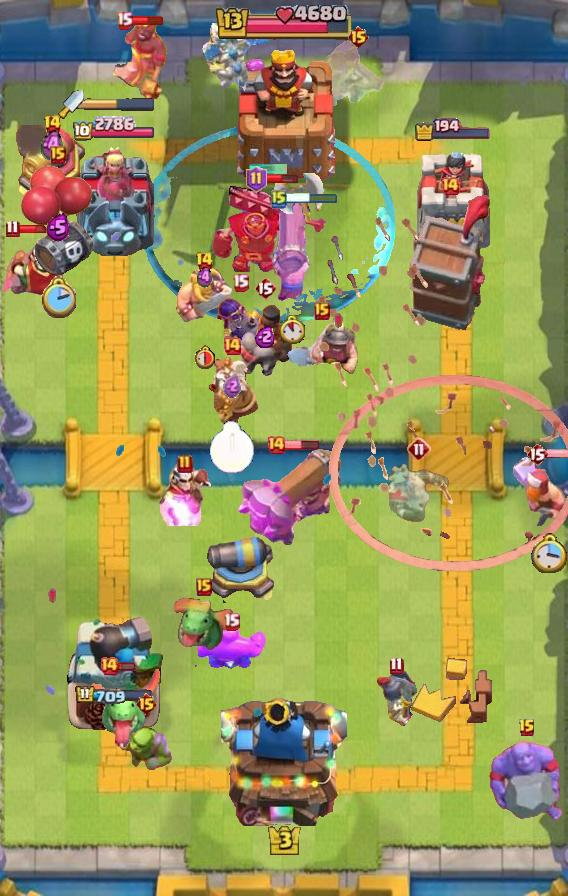archer-queen: (486, 738, 568, 826)
bandit: (286, 316, 358, 382)
bar: (70, 142, 158, 256)
barbarian-hut: (321, 38, 395, 106)
battle-healer: (269, 198, 315, 302)
clock: (213, 5, 355, 43)
dart-goblin: (408, 193, 492, 331)
electro-spirit: (41, 129, 63, 163), (46, 213, 70, 242), (256, 324, 277, 348), (223, 374, 241, 398), (197, 266, 211, 290)
electro-wizard: (79, 669, 163, 747), (170, 595, 238, 653)
elite-barbarian: (236, 302, 294, 378)
elixir: (209, 421, 255, 475), (40, 276, 76, 318), (532, 533, 568, 573), (279, 316, 305, 345), (193, 345, 215, 369)
elixir-collector: (204, 356, 260, 430)
emote: (286, 191, 339, 204), (264, 173, 300, 185), (284, 439, 320, 451), (130, 14, 164, 25), (17, 224, 49, 234), (546, 448, 568, 459), (116, 661, 136, 672)
flying-machine: (116, 718, 176, 774)
freeze: (108, 18, 168, 104)
furnace: (236, 446, 344, 546)
goblin-ball: (213, 296, 267, 352)
goblin-giant: (175, 264, 233, 324)
ice-spirit: (248, 164, 288, 174)
inferno-tower: (209, 184, 327, 272)
king-tower: (221, 690, 347, 826), (229, 43, 339, 181)
king-tower-bar: (84, 97, 156, 111)
mighty-miner: (510, 454, 568, 530)
mini-pekka: (201, 16, 273, 96)
mortar-evolution: (386, 461, 452, 527)
pad_0: (141, 124, 395, 330)
princess: (374, 668, 418, 726)
queen-tower: (410, 144, 496, 255)
royal-giant: (273, 173, 325, 225)
royal-recruit: (13, 125, 91, 201), (203, 533, 277, 603)
royal-recruit-evolution: (19, 165, 97, 279)
selected: (72, 116, 156, 143), (414, 118, 492, 142), (74, 686, 154, 707)
skeleton-barrel: (317, 214, 567, 574)
skeleton-king: (0, 232, 96, 300), (157, 462, 213, 526)
text: (407, 437, 431, 461), (347, 25, 370, 49), (134, 692, 157, 716), (245, 166, 266, 192), (254, 276, 276, 300), (526, 442, 548, 466), (440, 176, 460, 196), (194, 251, 214, 271), (222, 336, 242, 356), (266, 435, 286, 455), (99, 656, 119, 676), (42, 114, 61, 134), (518, 718, 536, 738), (115, 10, 133, 29), (224, 612, 241, 631), (271, 189, 287, 209), (177, 454, 193, 474), (231, 273, 248, 291), (50, 146, 66, 164), (314, 302, 330, 320), (196, 578, 212, 596), (5, 218, 20, 237), (389, 657, 403, 676)
tornado: (195, 622, 267, 672)
tower-bar: (63, 615, 165, 731)
